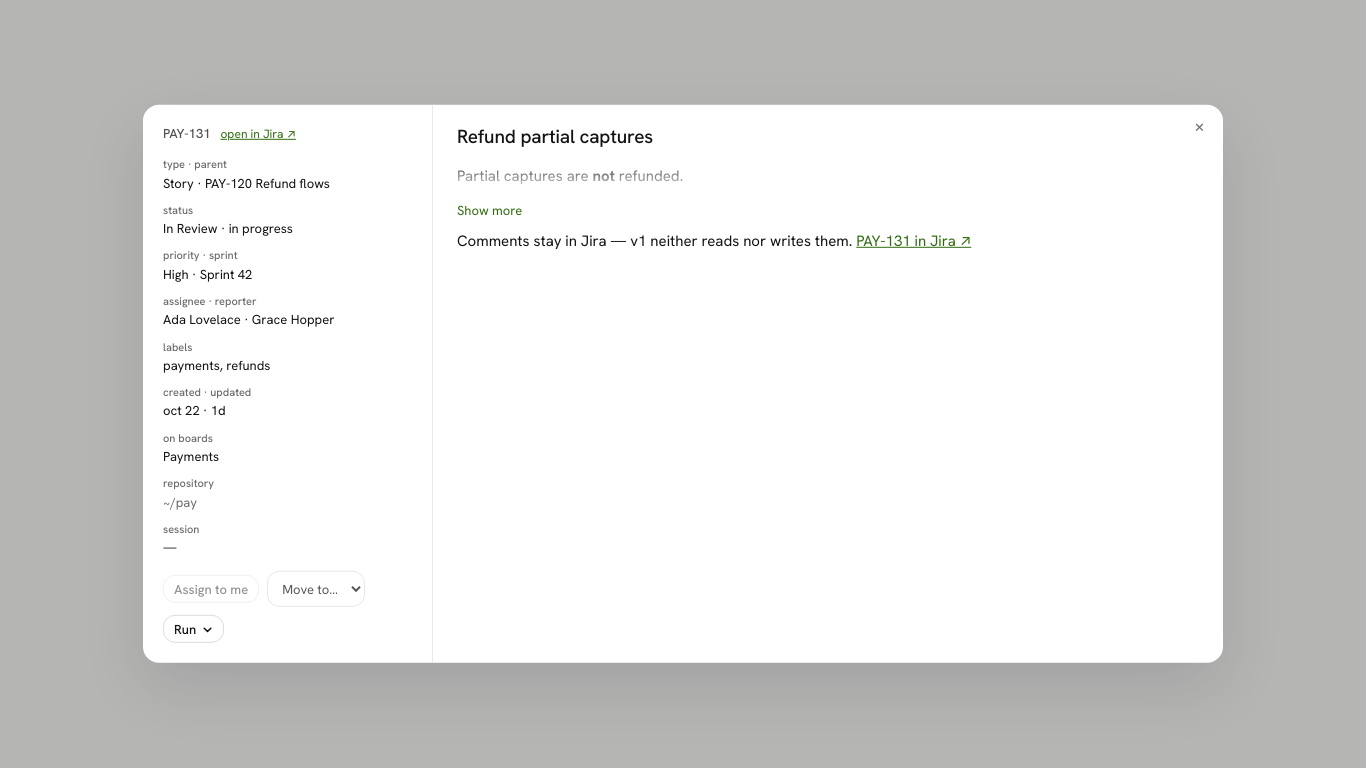
Test: JiraIssueModal — the body › clamps an overflowing description behind Show more, which opens and closes it
The image size is (1366, 768).
Expected: the text "not" is shown, [592,166,615,186]
Click the button "Show more": coordinates (490, 211) [457,202,522,220]
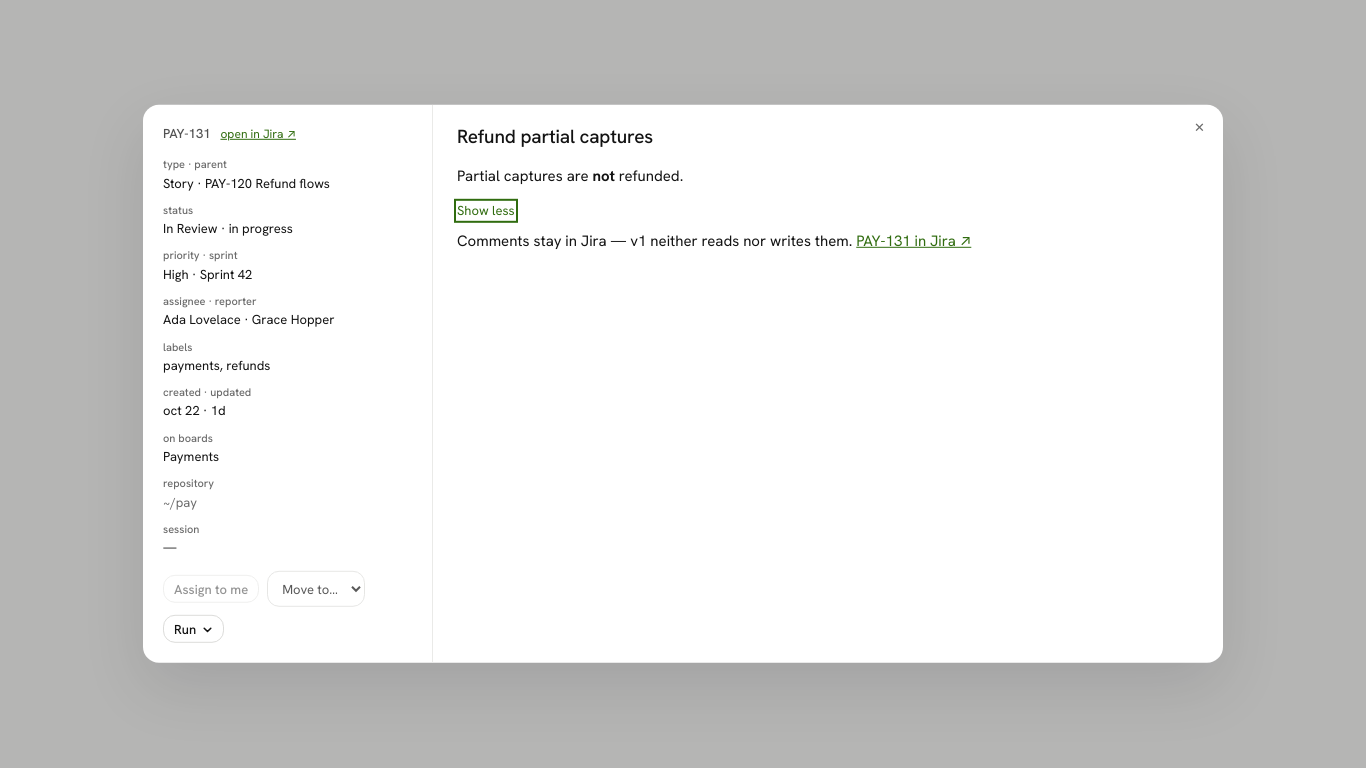
Now the button "Show less" is expanded
Click the button "Show less": coordinates (486, 211) [457,202,515,220]
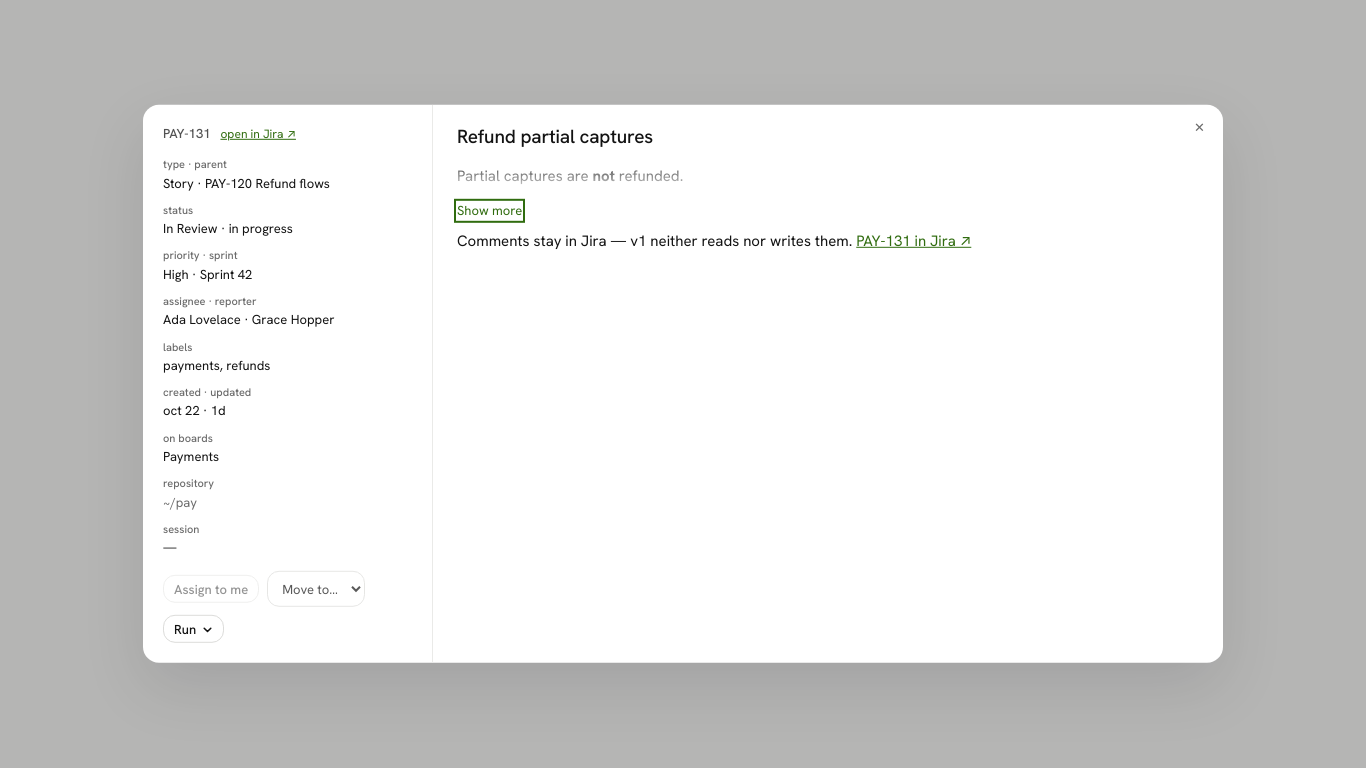
Now the button "Show more" is shown, box [457,202,522,220]
